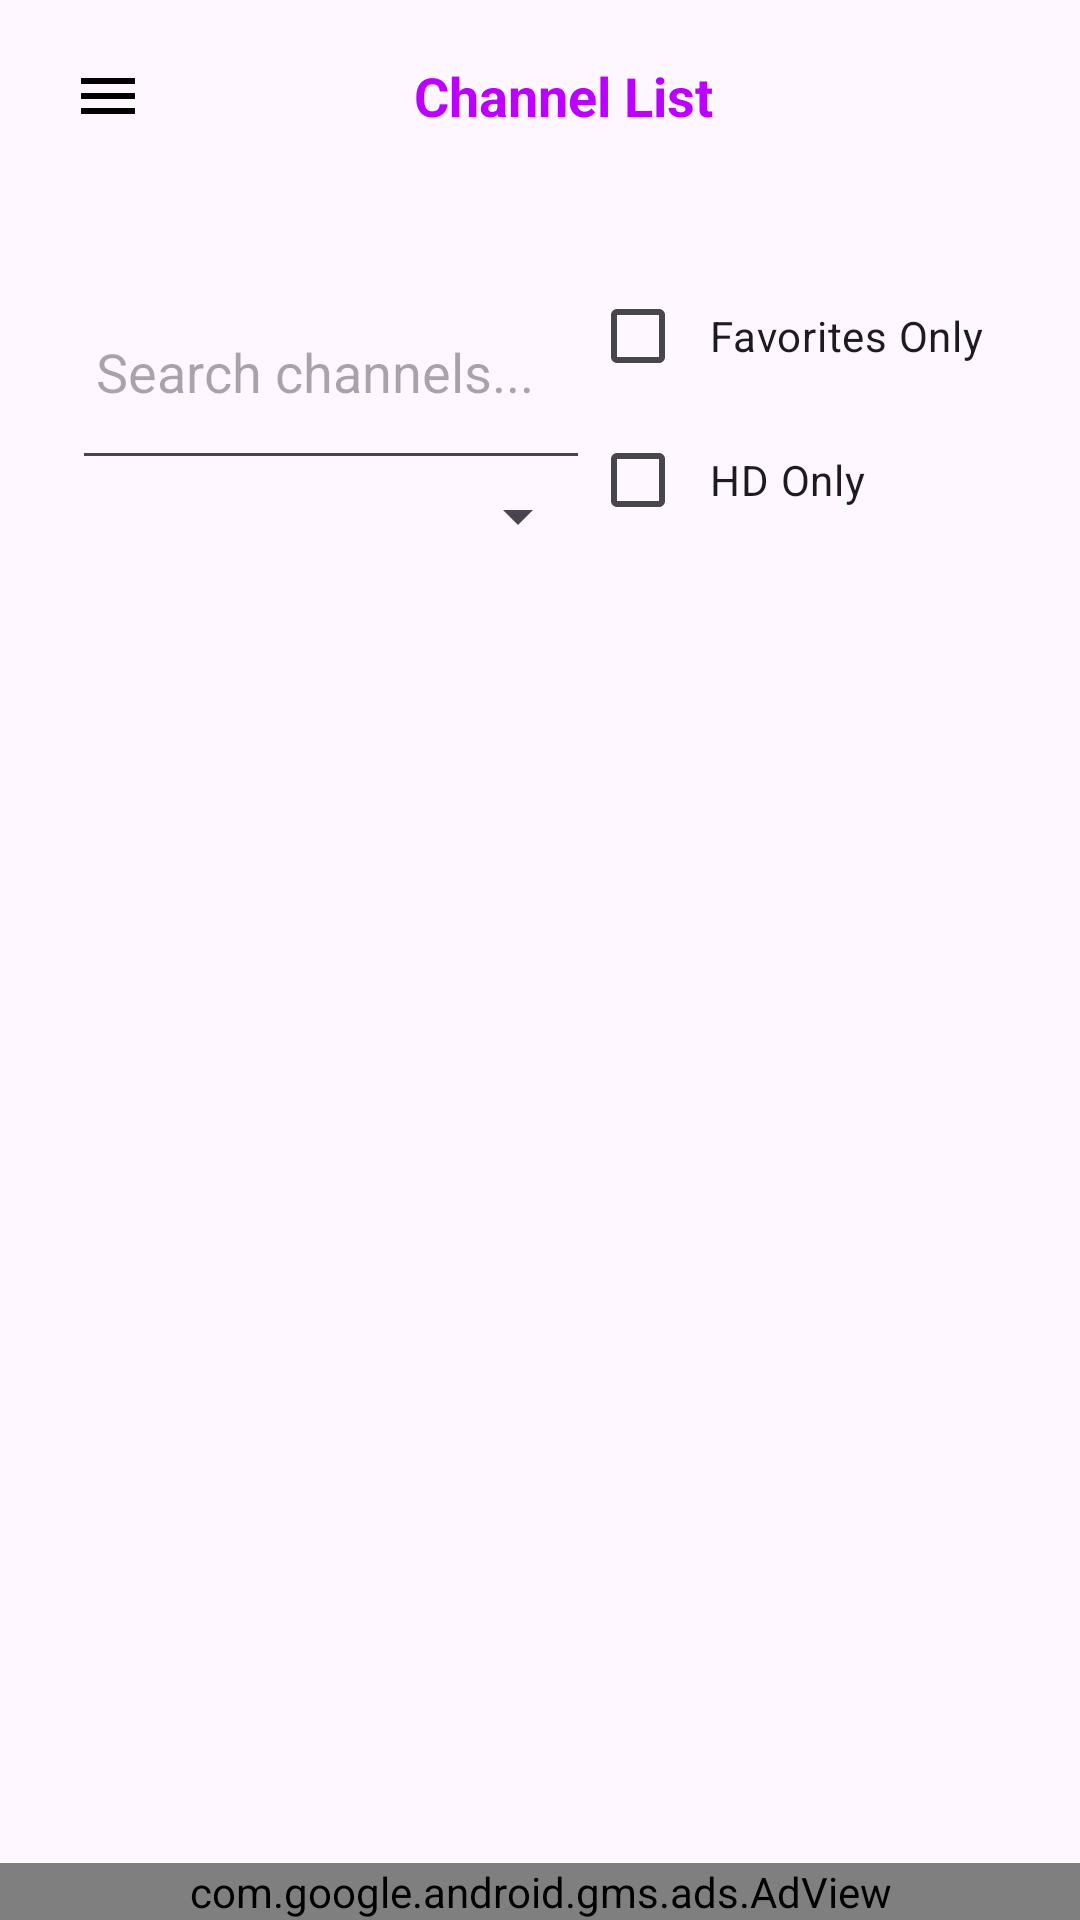

Where to tap for icons on this 1080*1920 app screen, as point (x, y):
menu: point (108, 96)
